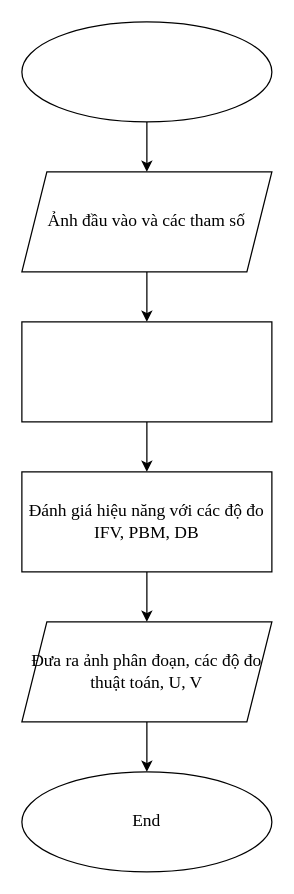
The diagram is 294 pixels wide and 894 high, and some of its shapes have lost their labels. Here are the shapes that lost their labels. From the top down, the centre of each, then its label:
point 146,71: Begin
point 146,371: Sử dung các thuật toán phân cụm bán giám sát để phân đoạn ảnh
